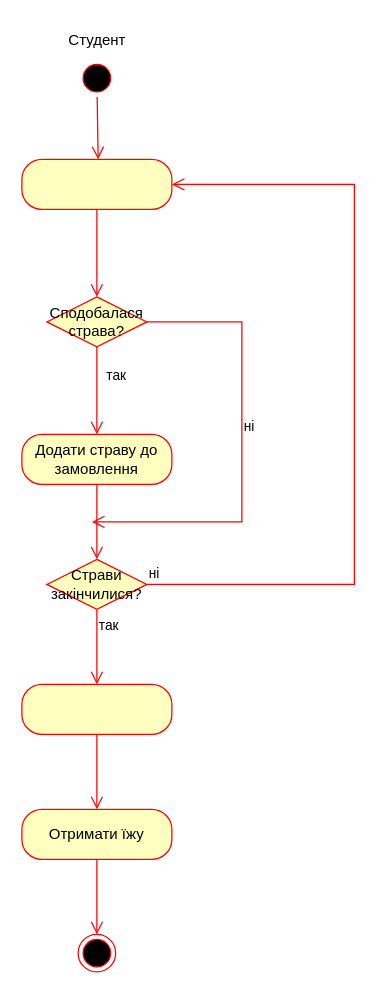
Some shapes in this 389 by 994 pixel diagram are drawn without their labels. Here are the shapes that lost their labels. From the top down, the centre of each, then its label:
At (x=96, y=183): "Переглянути наступну страву в меню".
At (x=96, y=708): "Зробити та оплатити замовлення".
